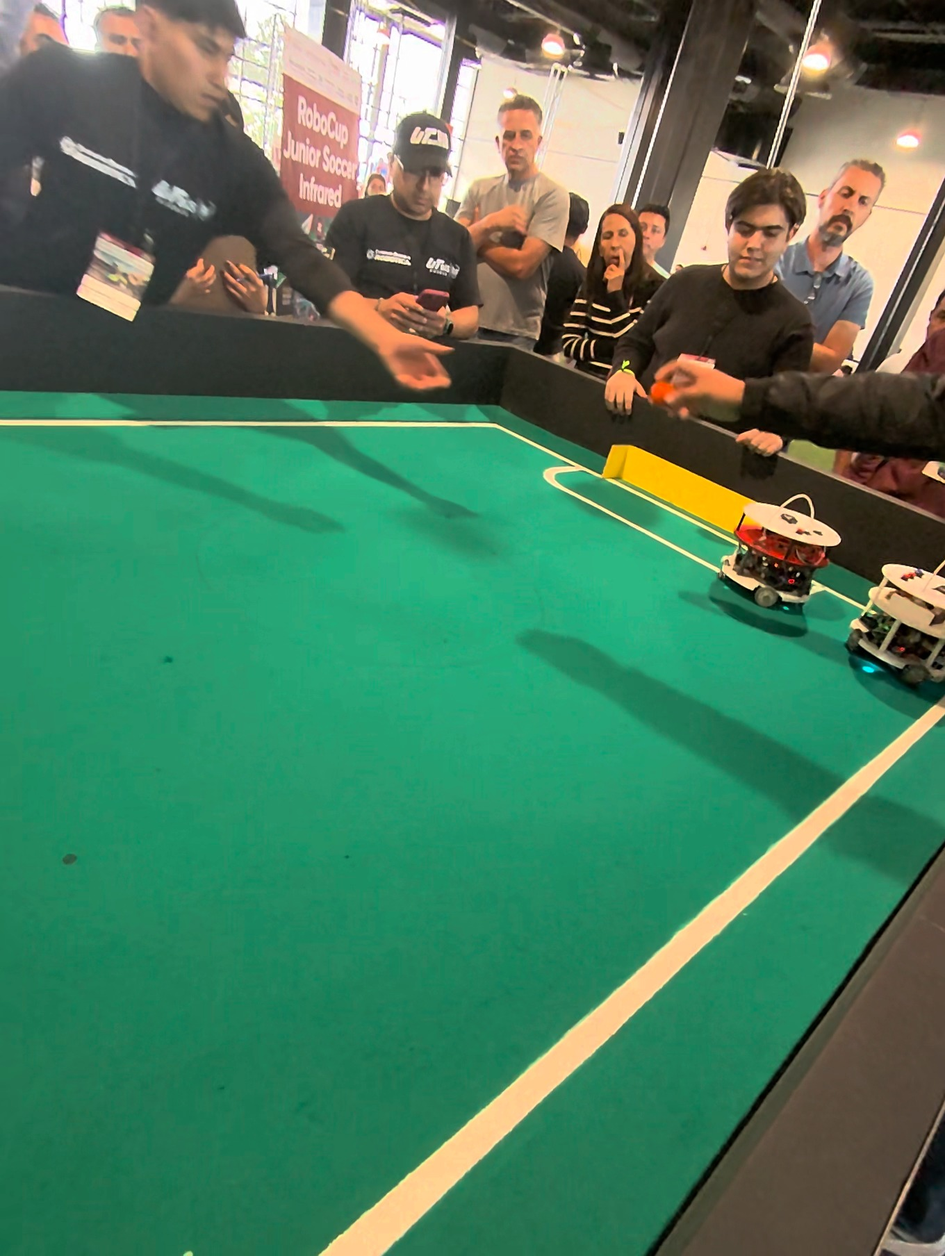Robot: (713, 498, 825, 631), (848, 564, 945, 709)
pelota: (646, 375, 686, 424)
